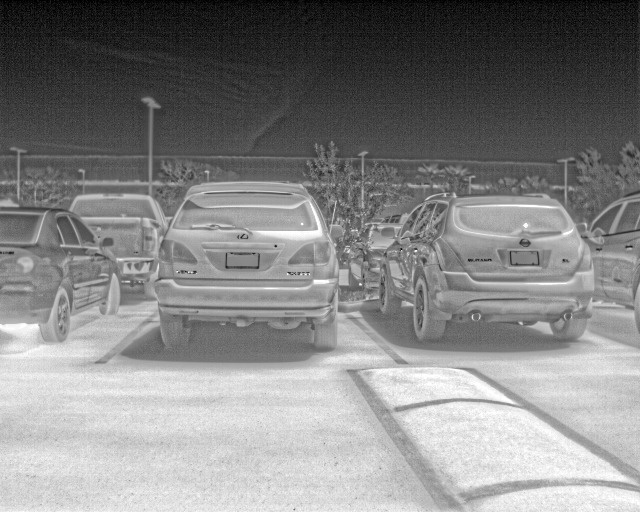vehicle: (378, 194, 595, 343), (158, 181, 339, 350), (1, 206, 122, 341), (72, 195, 161, 286), (593, 192, 640, 340), (347, 221, 390, 296)
